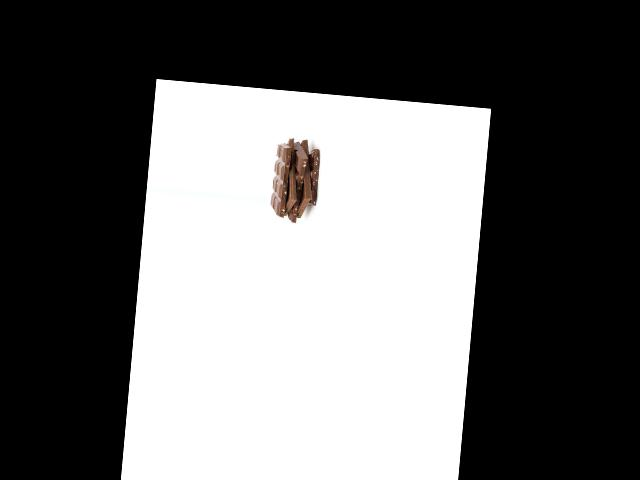chocolate: (288, 140, 326, 219)
